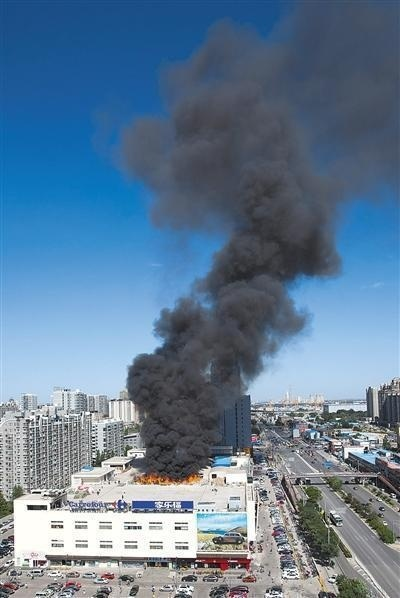fire: (139, 468, 201, 487)
